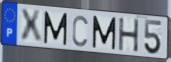5: (143, 18, 163, 57)
C: (71, 14, 89, 48)
H: (118, 17, 141, 54)
M: (91, 14, 117, 51), (43, 10, 68, 47)
X: (19, 8, 44, 44)
